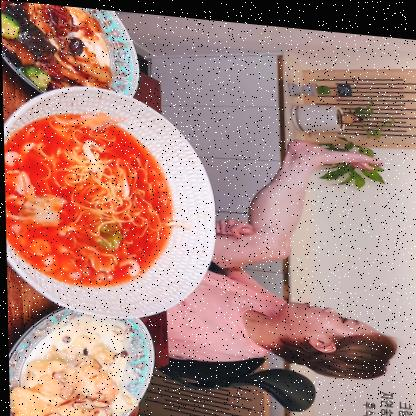streamer: (161, 125, 402, 376)
